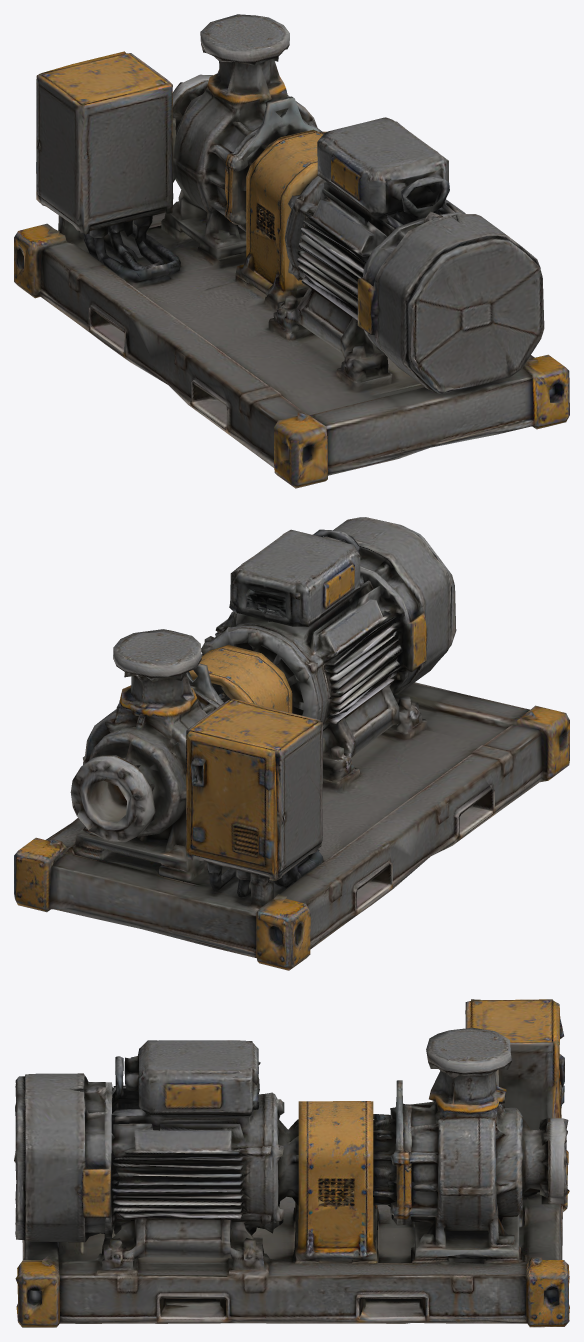
File: PROP-PUMP.glb
The picture shows the model from 3 angles, top to bottom: view 1: azimuth 30°, elevation 25°; view 2: azimuth 150°, elevation 25°; view 3: azimuth 270°, elevation 25°; orthographic projection. The views are drawn at different scales.
Visible parts, largest first — view 1: tripo_node_30ddf85f-f5f3-44d5-9b84-3535a0f1425e; view 2: tripo_node_30ddf85f-f5f3-44d5-9b84-3535a0f1425e; view 3: tripo_node_30ddf85f-f5f3-44d5-9b84-3535a0f1425e.
Part boxes in pixels (<box>): tripo_node_30ddf85f-f5f3-44d5-9b84-3535a0f1425e: <box>14,14,569,488</box>; tripo_node_30ddf85f-f5f3-44d5-9b84-3535a0f1425e: <box>14,517,569,970</box>; tripo_node_30ddf85f-f5f3-44d5-9b84-3535a0f1425e: <box>14,999,569,1327</box>.
Size of the model in its own units: 0.5696 by 0.4776 by 1.
Materials: 1 (1 with a texture image).
